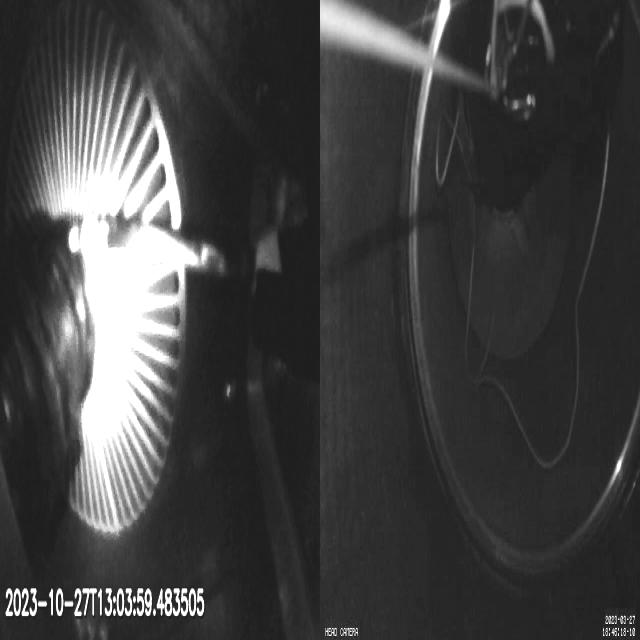head: (253, 234, 291, 294)
white-dots: (67, 213, 110, 262)
